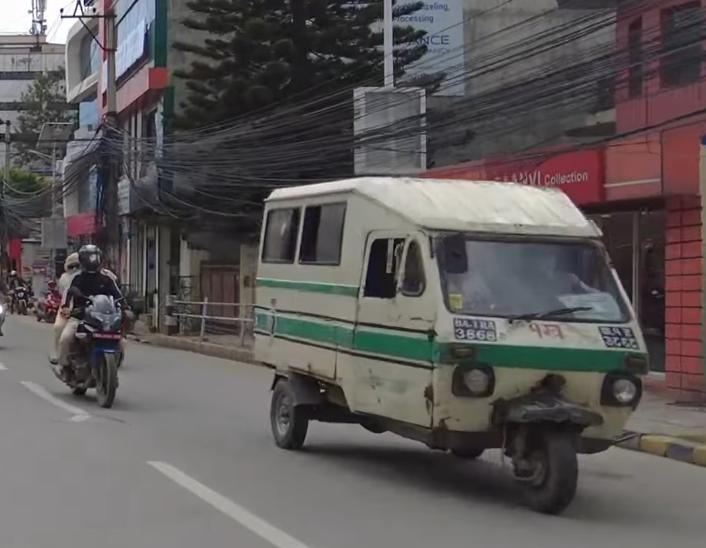bike: (49, 278, 132, 412)
tempo: (252, 164, 653, 518)
